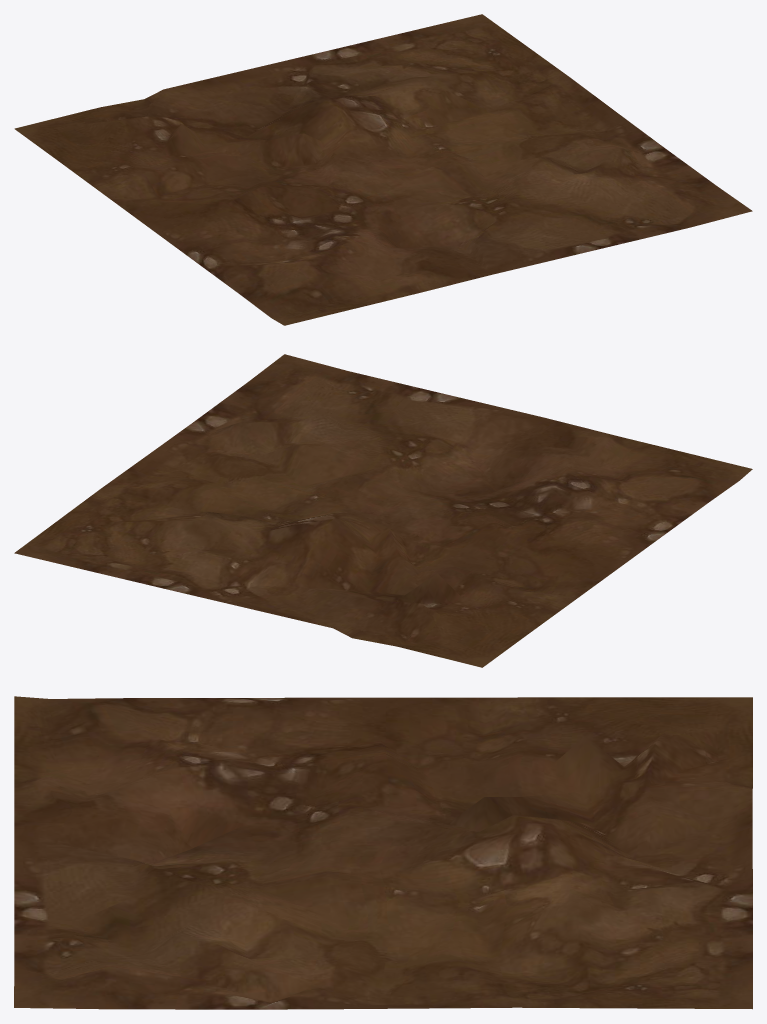
File: Ground_03.fbx
3 renders of one model, top to bottom at view 1: azimuth 30°, elevation 25°; view 2: azimuth 150°, elevation 25°; view 3: azimuth 270°, elevation 25°, orthographic. The views are drawn at different scales.
Parts seen in each view (by area): view 1: Ground_01_с.003; view 2: Ground_01_с.003; view 3: Ground_01_с.003.
Boxes of the visible parts, x1,y1,x2,y2 form: Ground_01_с.003: (14,14,752,325); Ground_01_с.003: (14,354,752,667); Ground_01_с.003: (14,696,752,1009).
Bounding box in the file's own units: 200 × 19.31 × 200.
